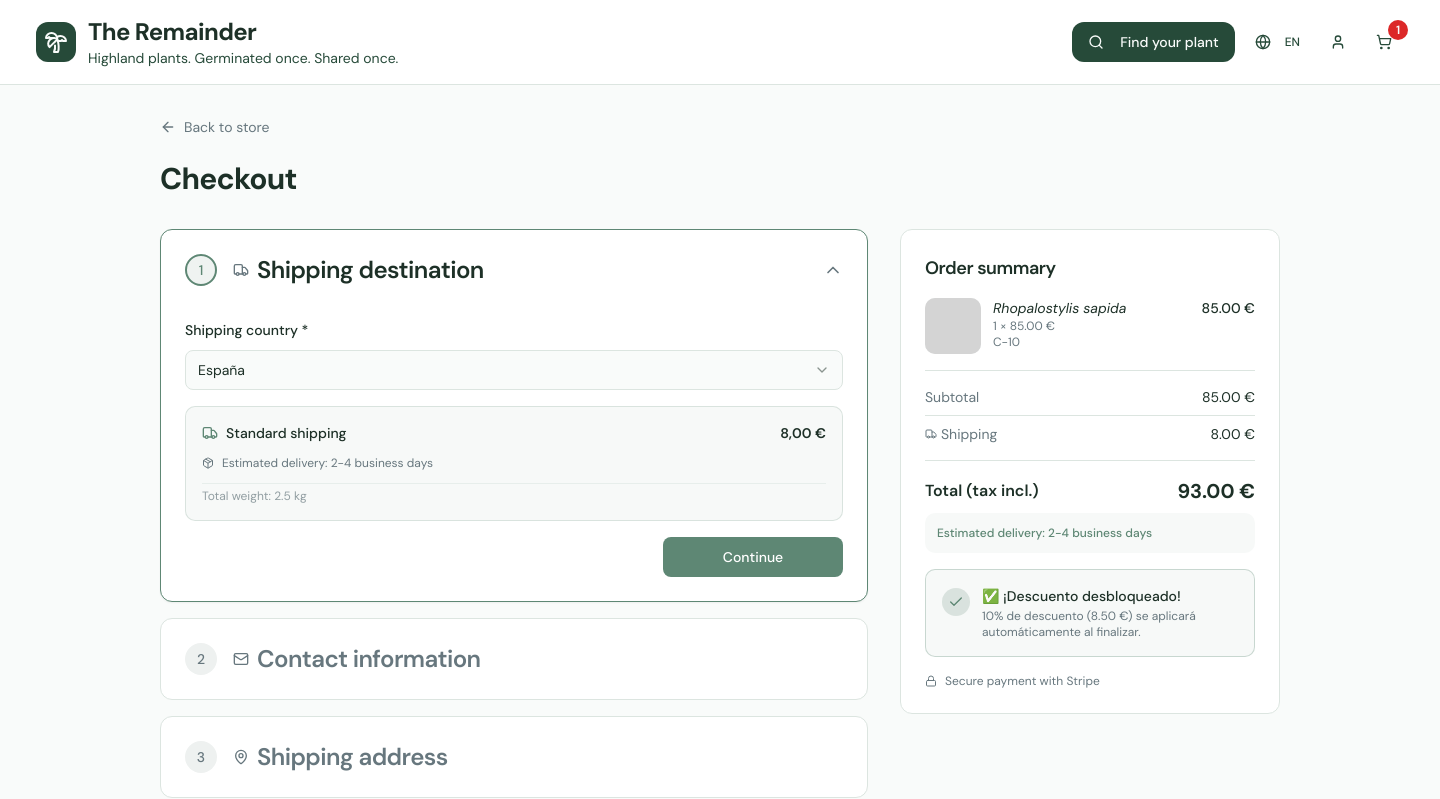
Checkout — form validation › advances from shipping step when quote is supported
# Find and click the continue button inside the active (shipping) step
Click the button "Continue": [753, 557] box [663,537,843,577]
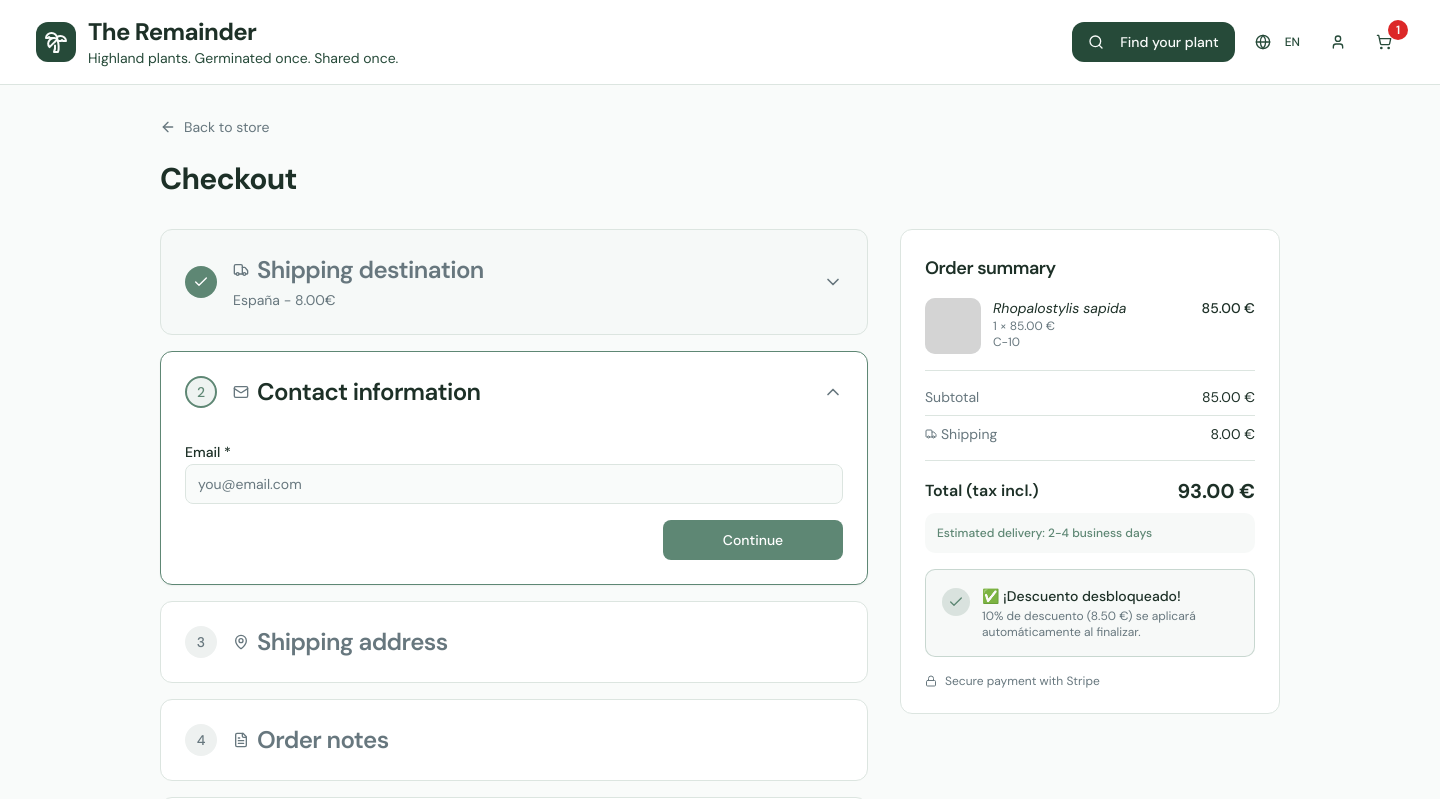
Expected: the field with id "email" is shown, [185,464,843,504]
